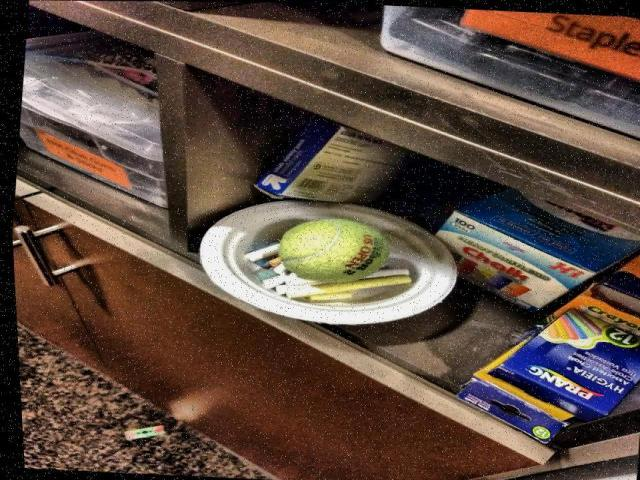tennis-ball: (273, 216, 406, 292)
